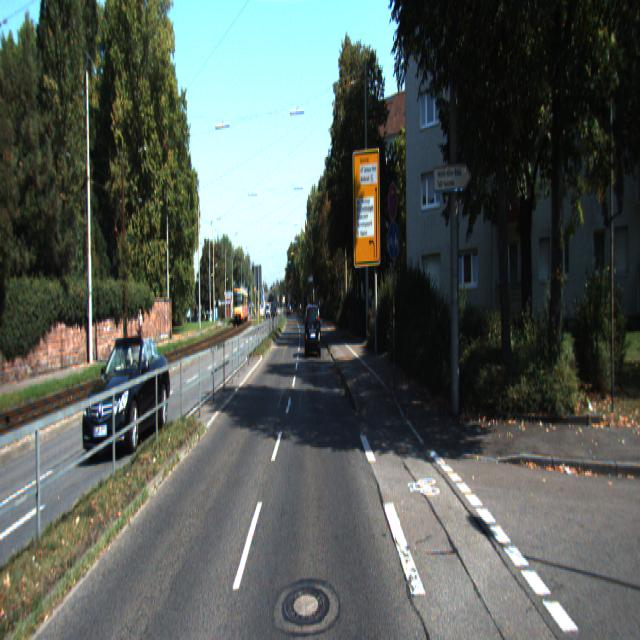Car: (82, 331, 172, 459), (304, 302, 322, 358), (234, 288, 248, 325)
